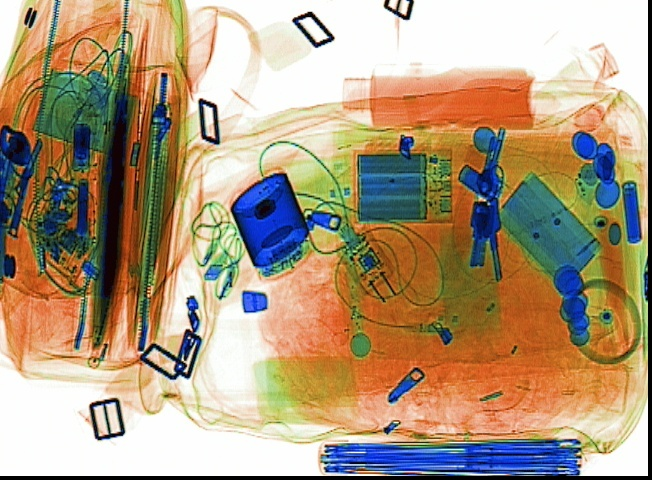powerbank: (351, 146, 455, 226)
